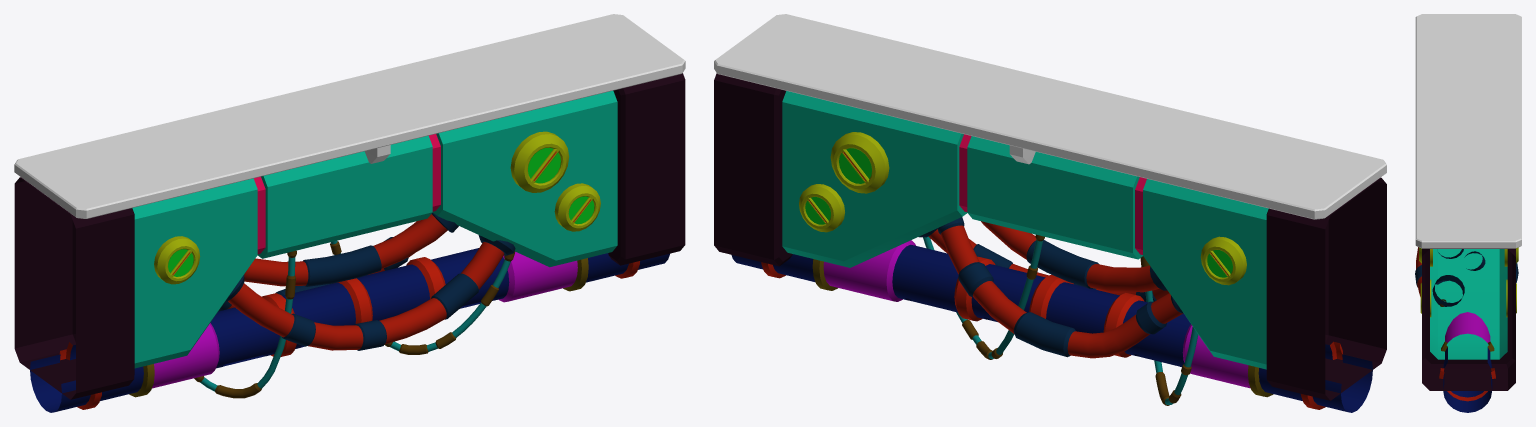
Rendered from OBJ_Passerelle.fbx.
The picture shows the model from 3 angles, left to right: view 1: azimuth 30°, elevation 25°; view 2: azimuth 150°, elevation 25°; view 3: azimuth 270°, elevation 25°; orthographic projection. The views are drawn at different scales.
Parts seen in each view (by area): view 1: OBJ_Passerelle; view 2: OBJ_Passerelle; view 3: OBJ_Passerelle.
Boxes of the visible parts, box(x1,y1,x2,y2) form: OBJ_Passerelle: box(14, 14, 685, 412); OBJ_Passerelle: box(714, 14, 1386, 412); OBJ_Passerelle: box(1415, 14, 1521, 412).
Size of the model in its own units: 62.54 by 25.41 by 12.41.
